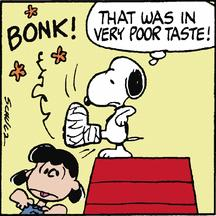snoopy: (61, 56, 147, 158)
